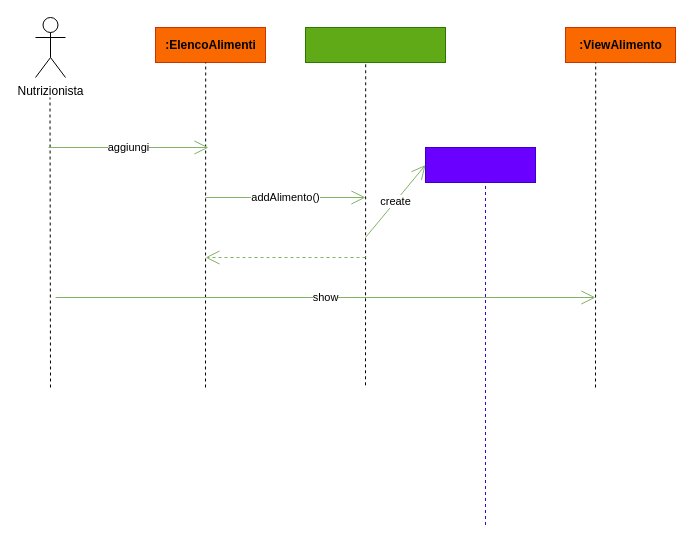
Some shapes in this 693 by 544 pixel diagram are drawn without their labels. The centre of each missing label's shape, as x and y in pixels:
":Alimento" belongs at point (480, 164).
"AlimentiController" belongs at point (375, 44).
